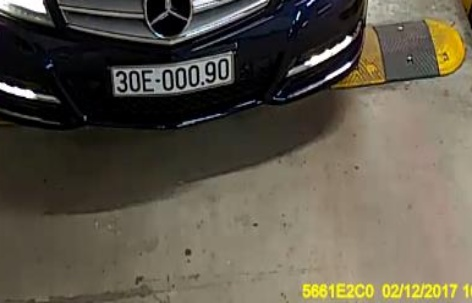plate: (108, 54, 236, 96)
